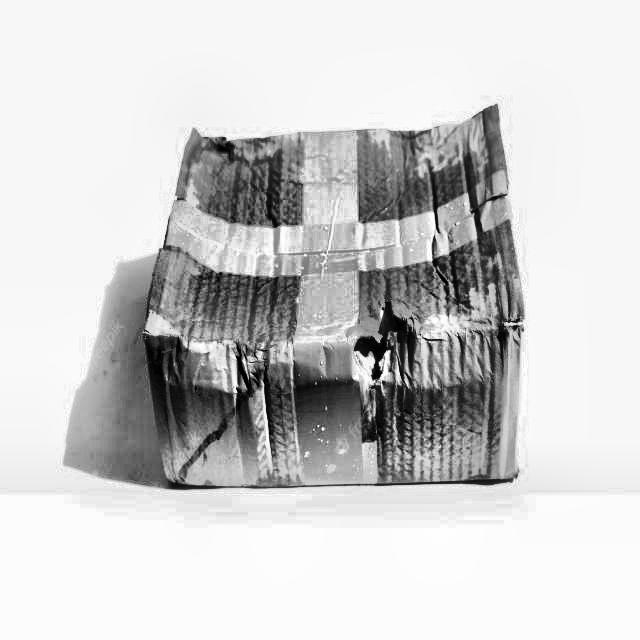box: (135, 95, 536, 492)
hole: (355, 299, 417, 379), (209, 132, 237, 164)
